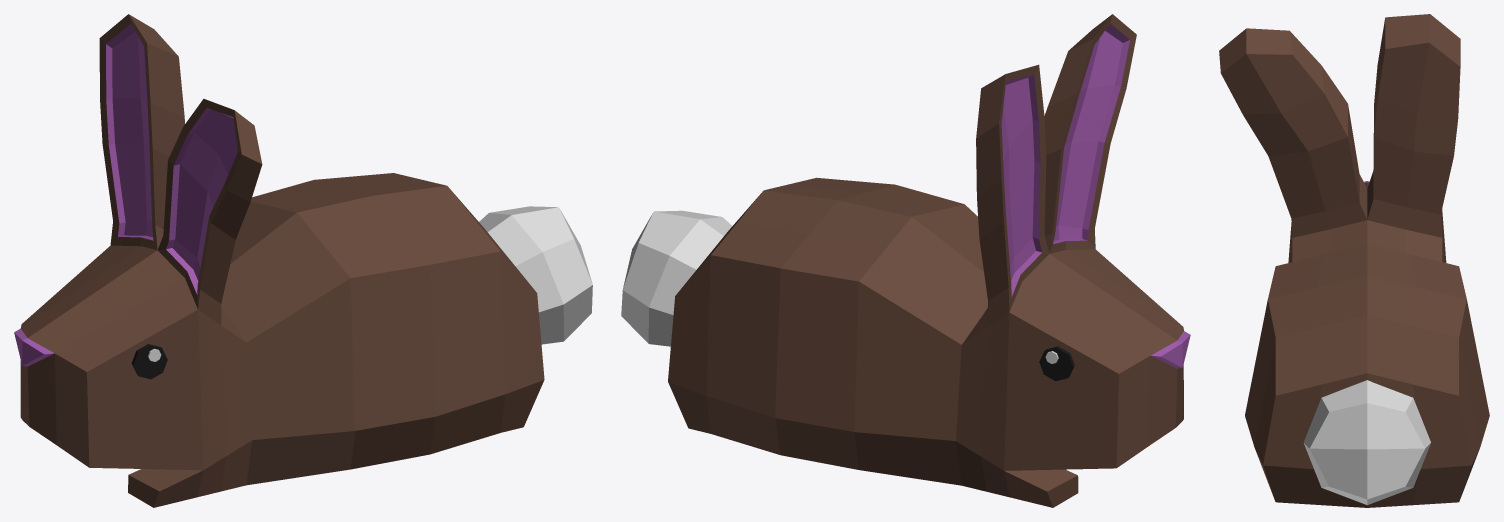
Rendered from bunny.glb.
The picture shows the model from 3 angles, left to right: view 1: azimuth 30°, elevation 25°; view 2: azimuth 150°, elevation 25°; view 3: azimuth 270°, elevation 25°; orthographic projection. The views are drawn at different scales.
Parts seen in each view (by area): view 1: char; view 2: char; view 3: char.
Part boxes in pixels (x1,y1,x2,y2): char: (14, 14, 592, 507); char: (621, 14, 1190, 507); char: (1219, 14, 1489, 507).
Bounding box in the file's own units: 268 × 192 × 130.
